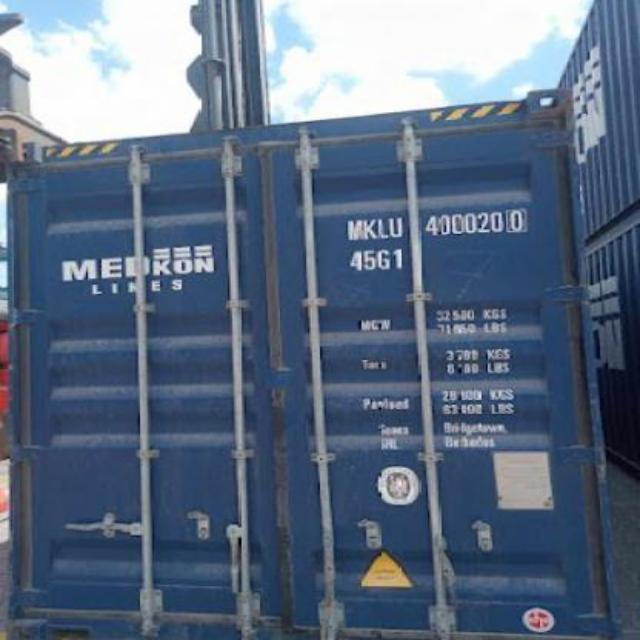0: (464, 210, 480, 240), (508, 210, 528, 232), (436, 211, 452, 235), (492, 208, 504, 234), (452, 213, 464, 237)
2: (478, 208, 492, 236)
4: (416, 210, 440, 242)
K: (362, 212, 380, 244)
L: (376, 208, 392, 240)
M: (340, 214, 366, 242)
U: (386, 214, 412, 240)
